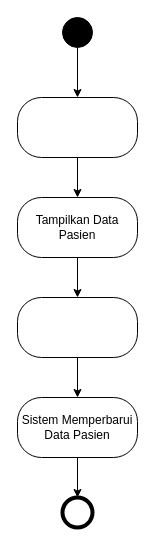
The diagram is 155 pixels wide and 547 high, and some of its shapes have lost their labels. The shapes that lost their labels are listed below. From the top down, each one's centre as x and y in pixels, then its label:
At (77,127): "Pilih Menu Data Pasien".
At (77,327): "Pilih Aksi (Tambah/ Edit/Hapus/Print)".
